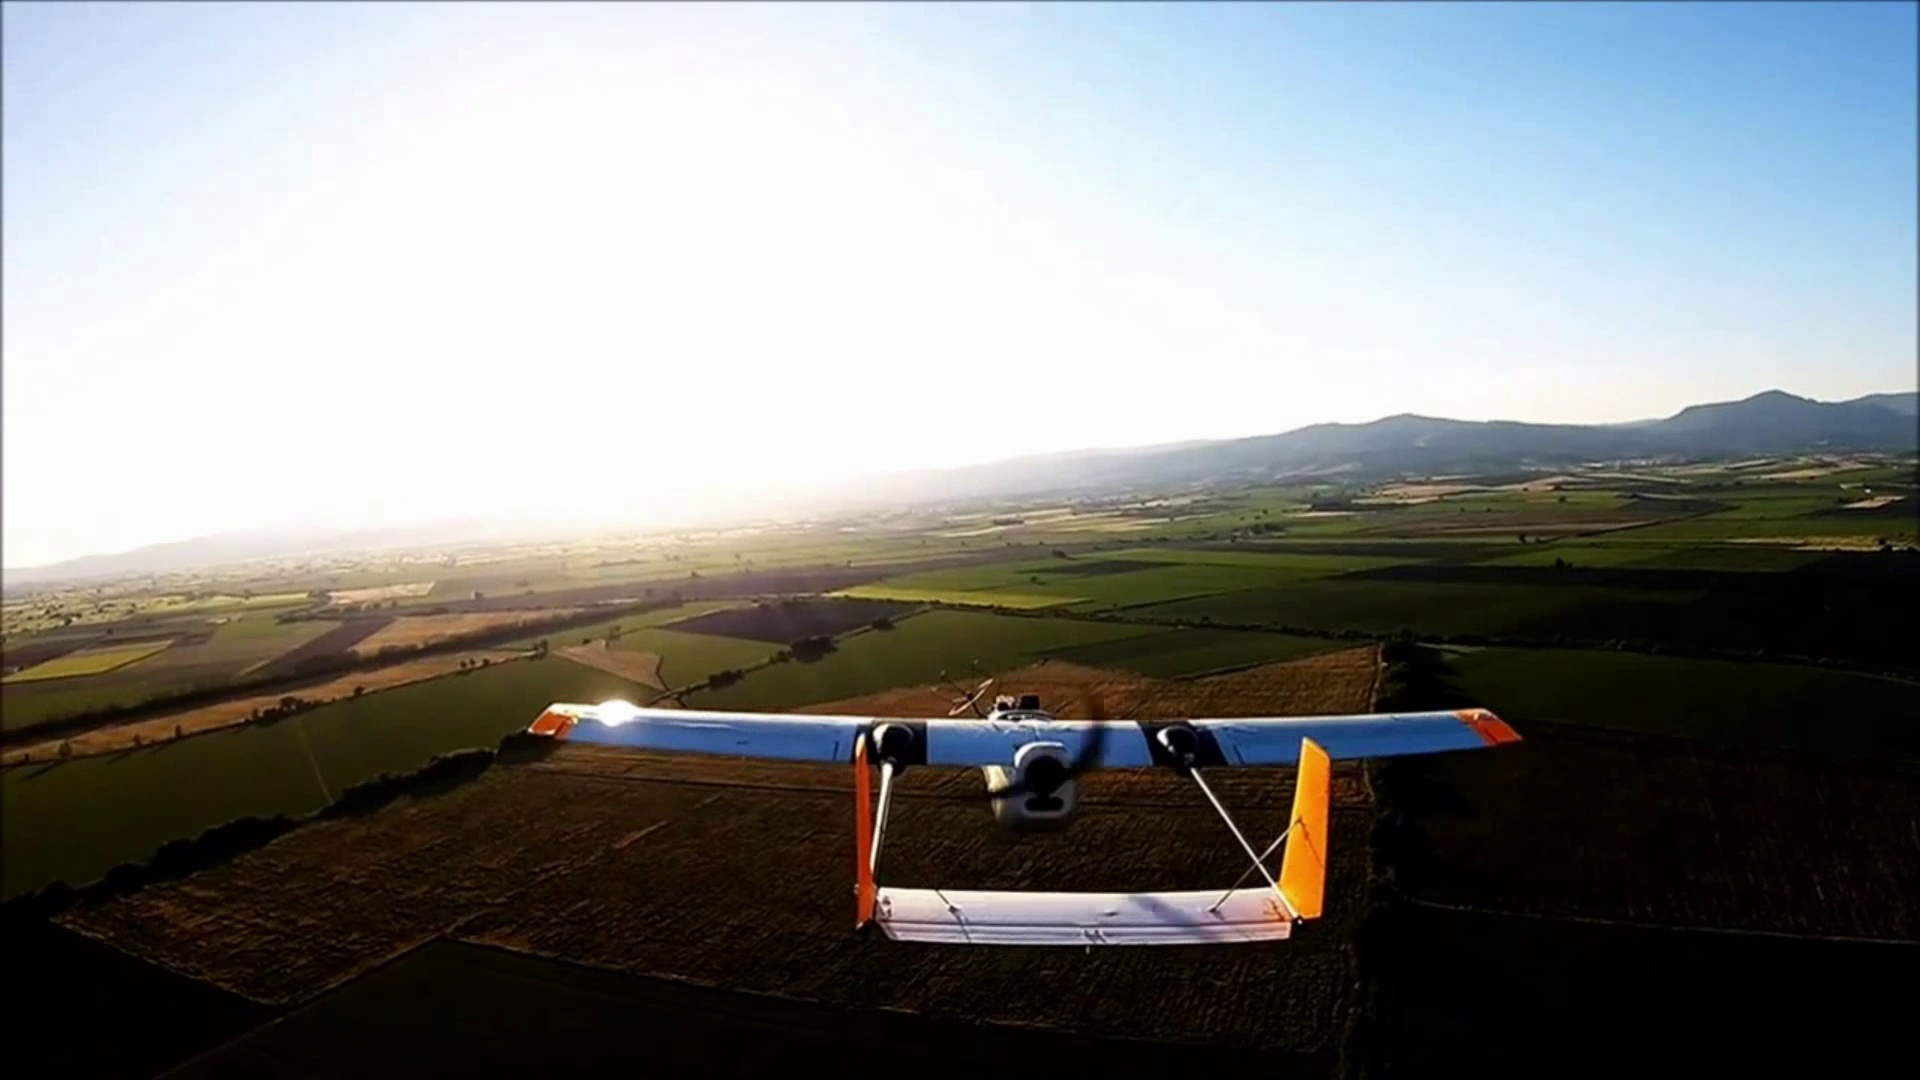airplane: (513, 700, 1524, 945)
